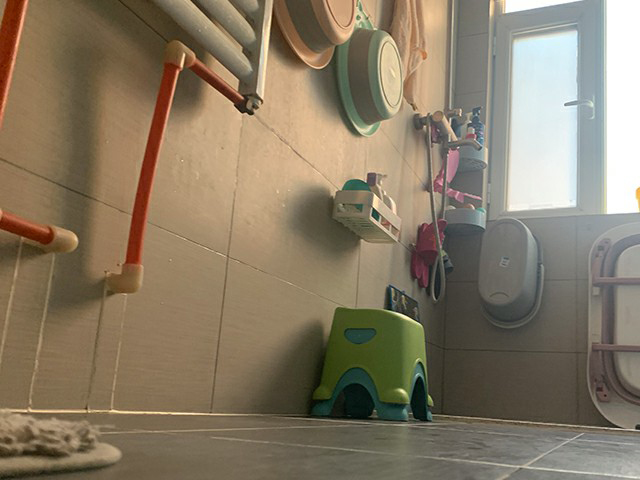carpet: (1, 407, 121, 480)
stool: (308, 306, 435, 423)
